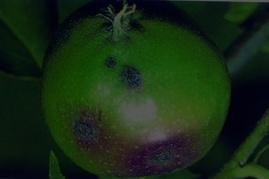rotten apple: (38, 2, 232, 178)
